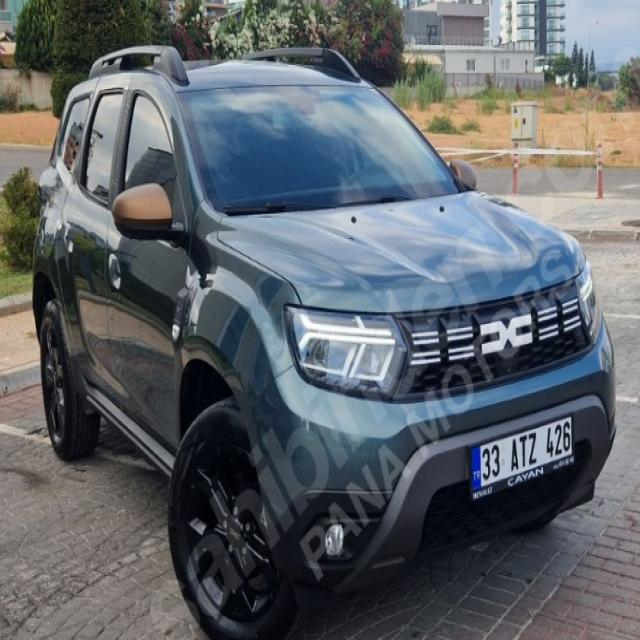dacia: (477, 314, 536, 359)
